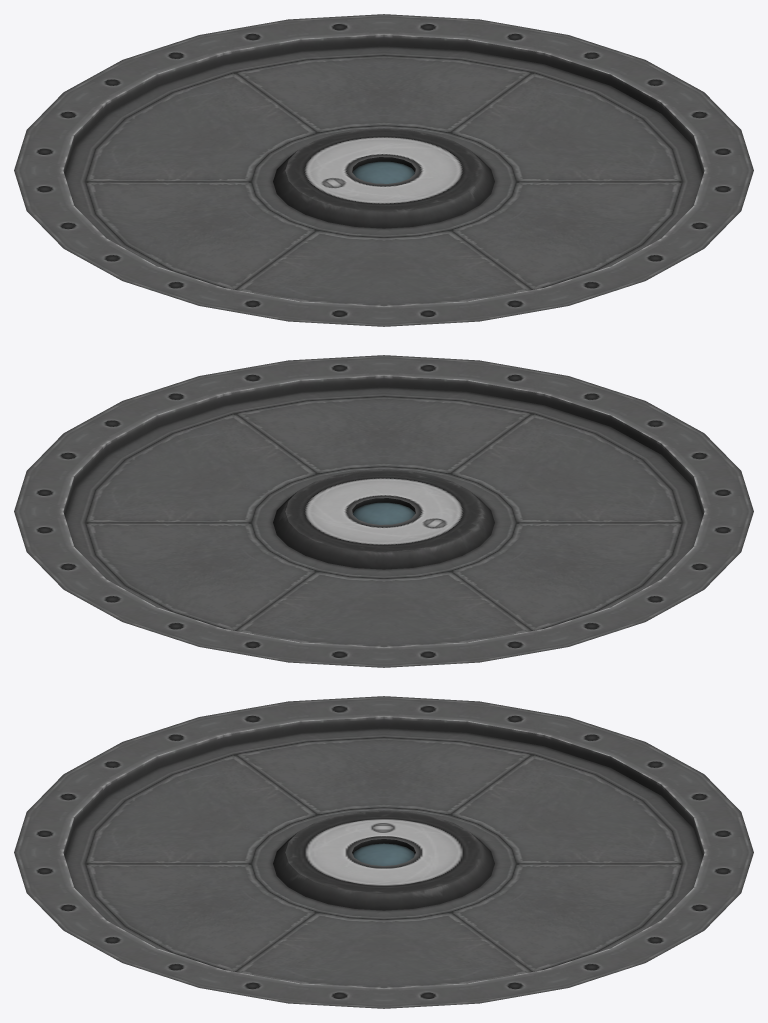
The model's file is end_crew_s1p5.obj.
3 views of the same model, one above another, from view 1: azimuth 30°, elevation 25°; view 2: azimuth 150°, elevation 25°; view 3: azimuth 270°, elevation 25° (orthographic).
Visible parts, largest first — view 1: end; view 2: end; view 3: end.
Boxes of the visible parts, box(x1,y1,x2,y2) form: end: box(14, 14, 753, 326); end: box(14, 355, 753, 667); end: box(14, 696, 753, 1008).
Size of the model in its own units: 1.88 by 0.0313 by 1.88.
